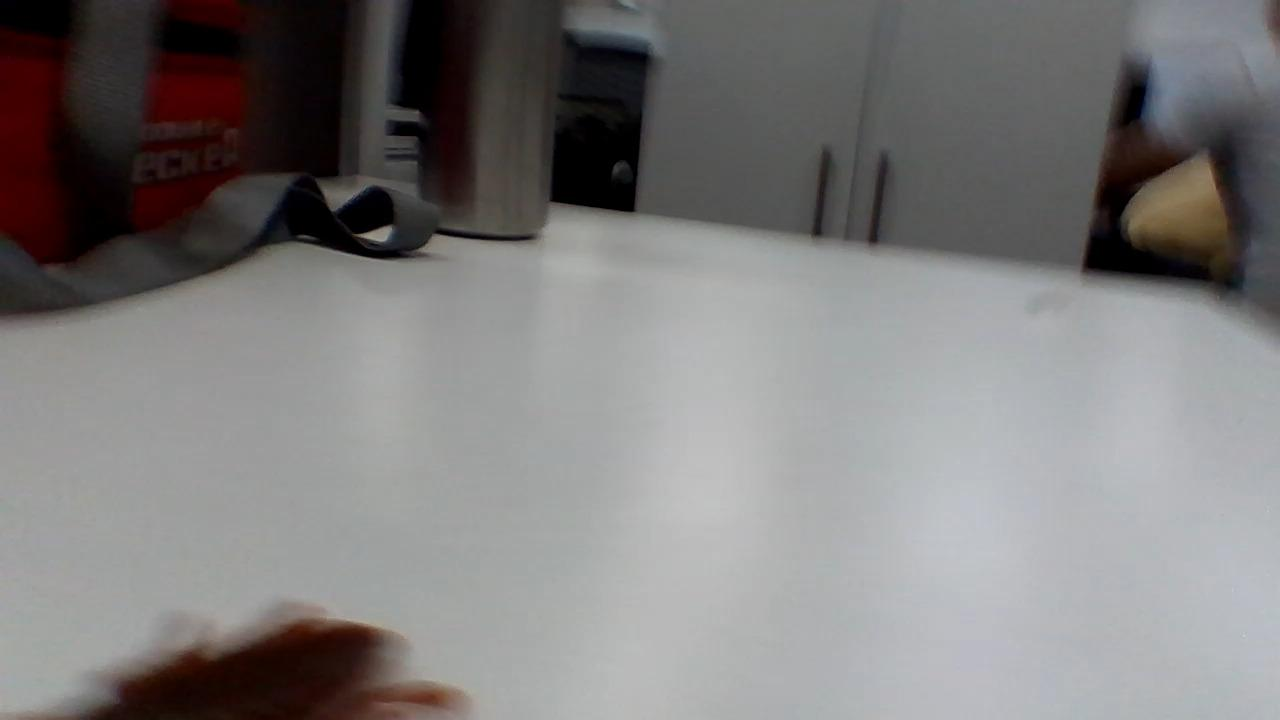cockroach: (57, 600, 462, 720)
